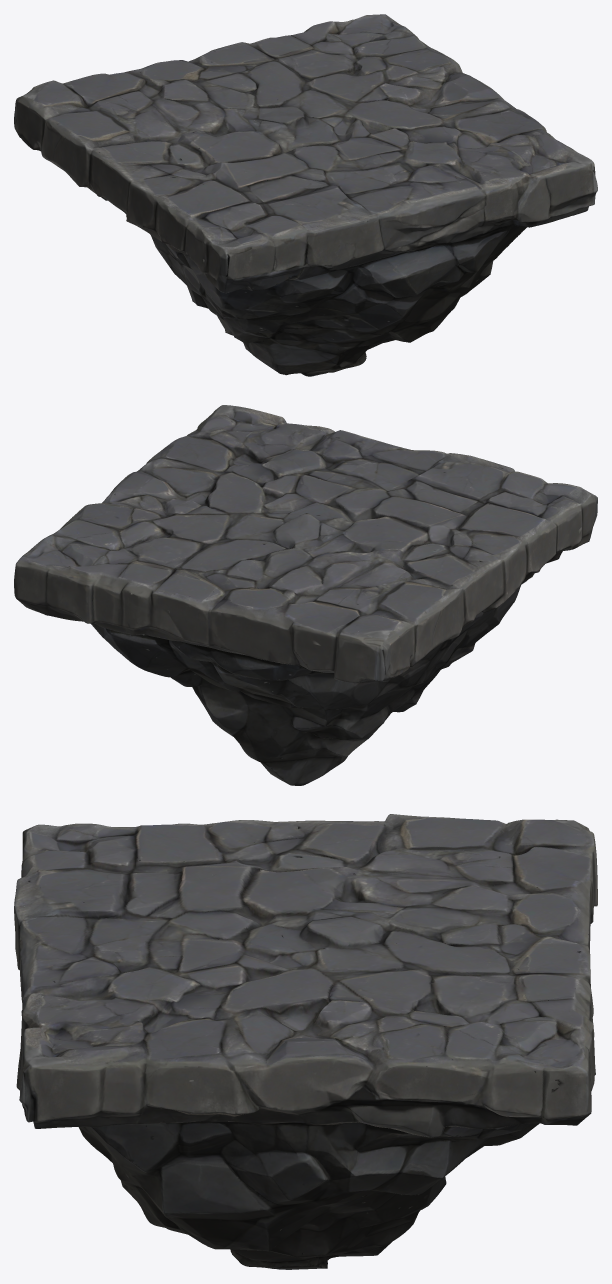
The model's file is Meshy_AI_Floating_Stone_Platfo_0310040217_texture.glb.
The picture shows the model from 3 angles, top to bottom: view 1: azimuth 30°, elevation 25°; view 2: azimuth 150°, elevation 25°; view 3: azimuth 270°, elevation 25°; orthographic projection. The views are drawn at different scales.
Size of the model in its own units: 1.99 by 1.29 by 2.
Materials: 1 (1 with a texture image).
